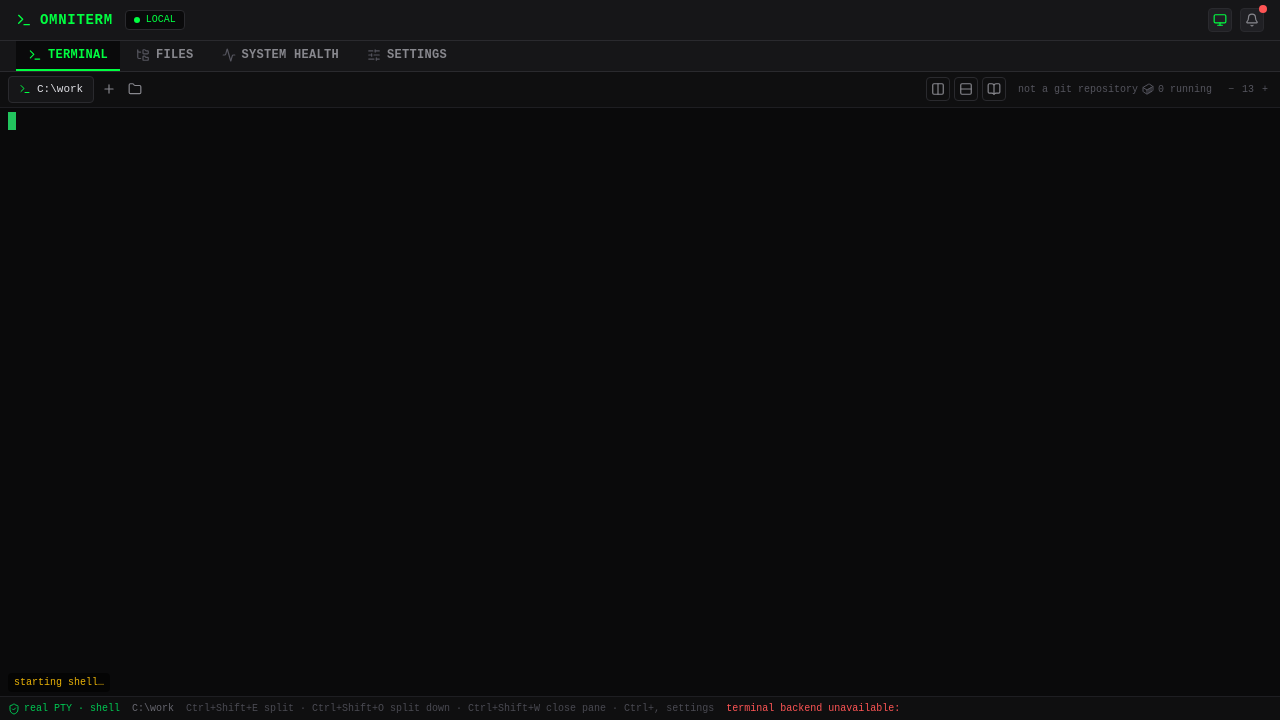
App alerts › loads alerts and marks unread alerts through the API
Click the button named "System alerts, 1 unread": coordinates (1252, 20) [1240,8,1264,32]
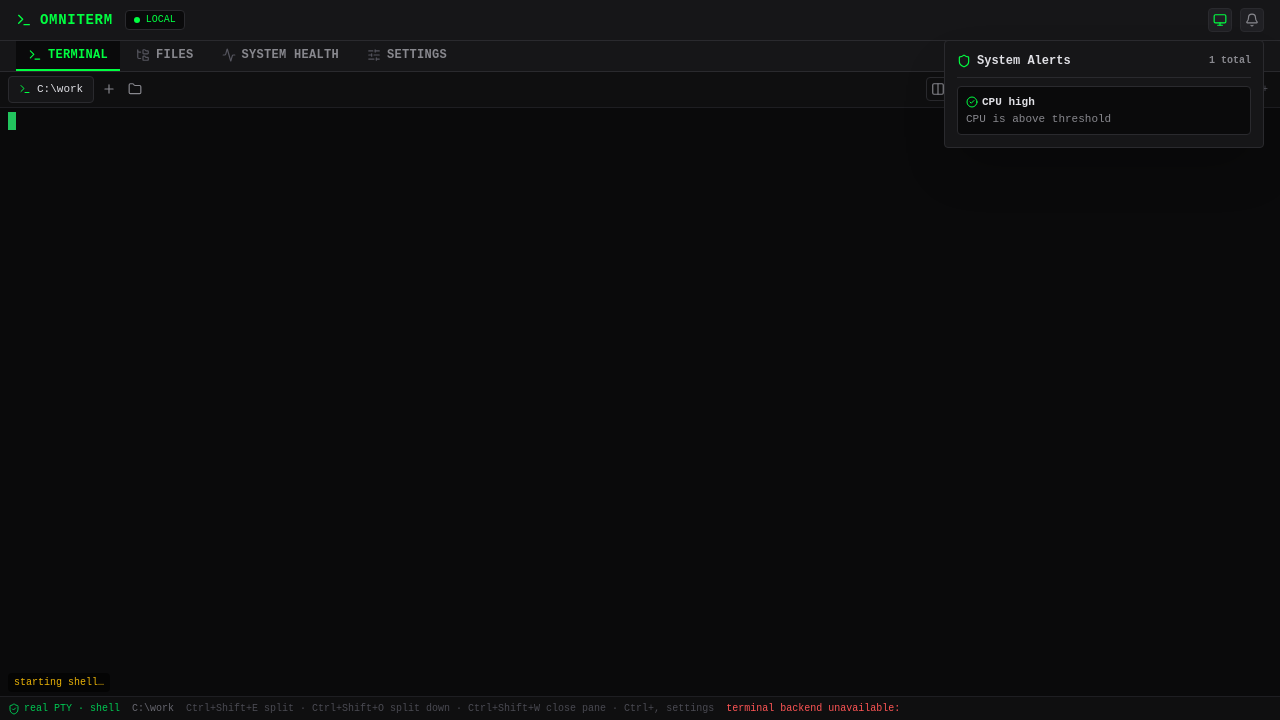
Expected: the text "CPU high" is shown, [966,95,1035,110]
